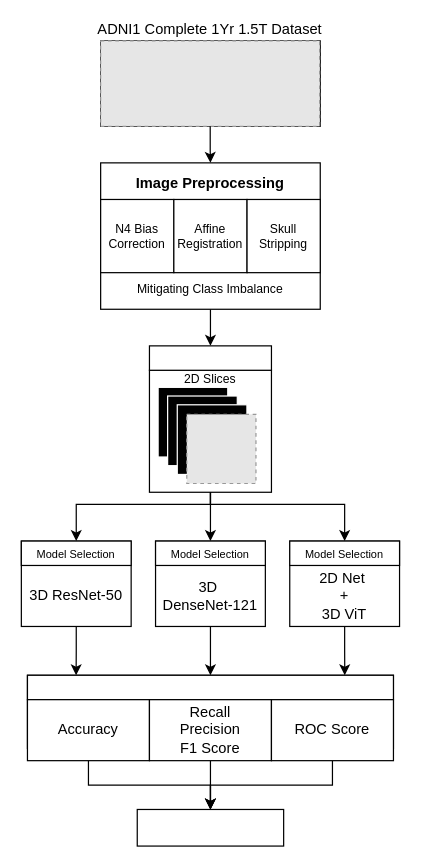
The diagram is 421 pixels wide and 867 high, and some of its shapes have lost their labels. Grey dashed boxes stand in for pictures. The shapes that lost their labels are listed below. From the top down, each one's centre as x and y in pixels, then its label:
At [209,357]: "3D Volumn".
At [209,687]: "Evaluation Metrics".
At [210,827]: "Compile Results".
